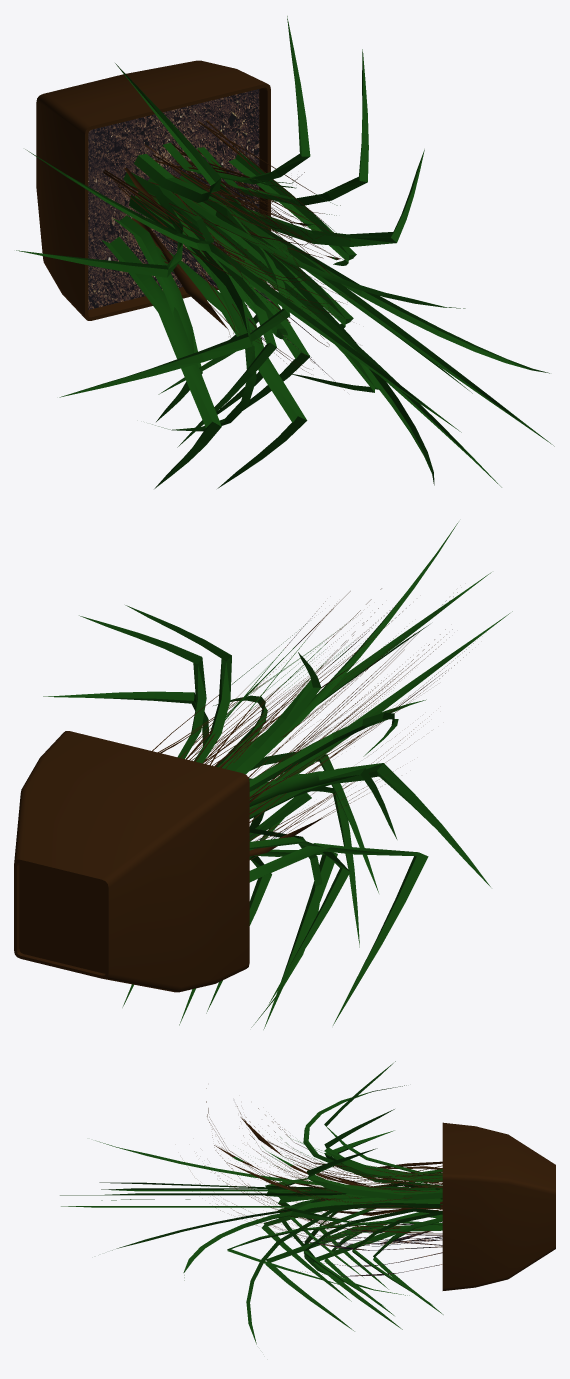
Rendered from Plan.obj.
The picture shows the model from 3 angles, top to bottom: view 1: azimuth 30°, elevation 25°; view 2: azimuth 150°, elevation 25°; view 3: azimuth 270°, elevation 25°; orthographic projection. The views are drawn at different scales.
Parts seen in each view (by area): view 1: Plan; view 2: Plan; view 3: Plan.
Part boxes in pixels (x1,y1,x2,y2): Plan: (16, 16, 554, 488); Plan: (14, 522, 512, 1029); Plan: (60, 1061, 555, 1344).
Size of the model in its own units: 535 by 532 by 1026.
